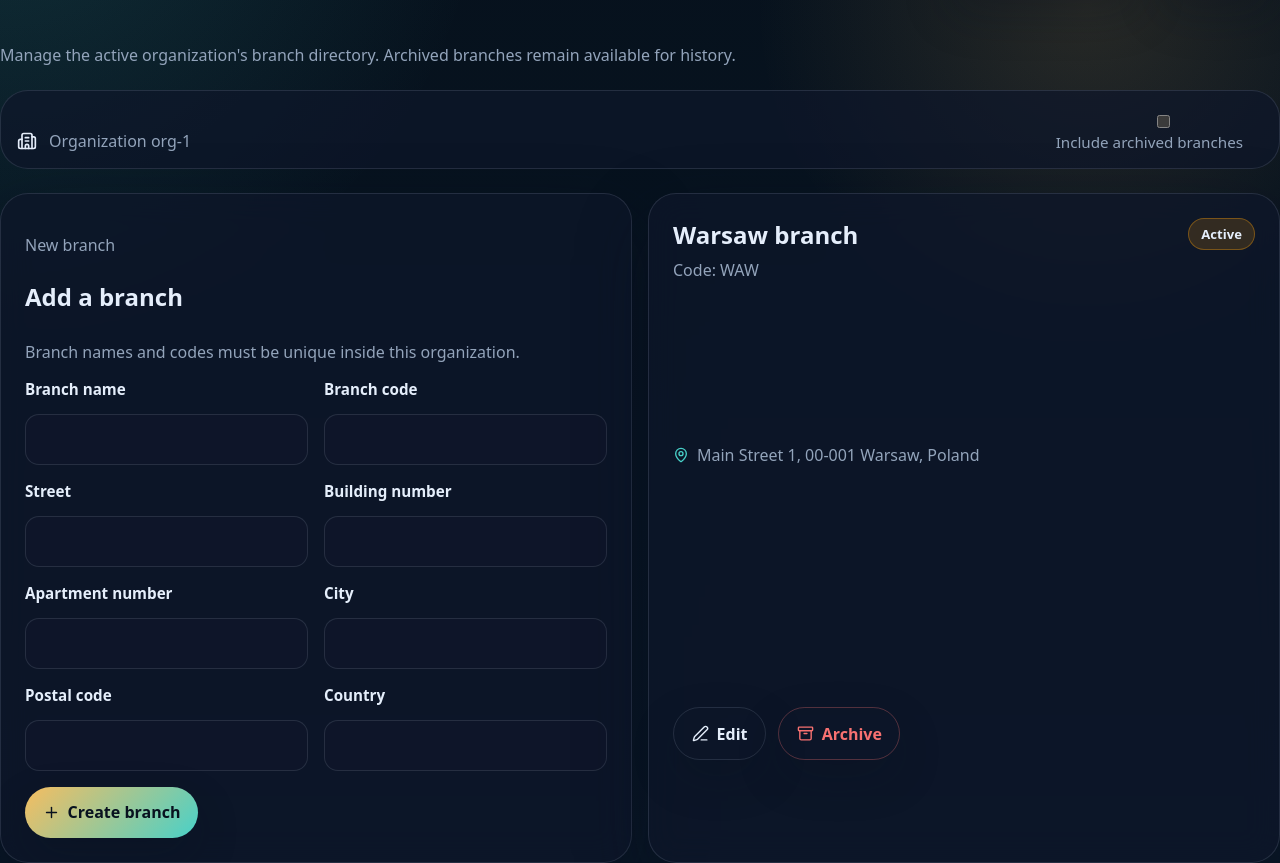
Test case: OrganizationBranches page › edits and archives an active branch
(page scrolled)
Expected: the heading "Warsaw branch" is shown, [673,218,858,251]
Click the button "Edit" at (720, 734), box [673,707,766,760]
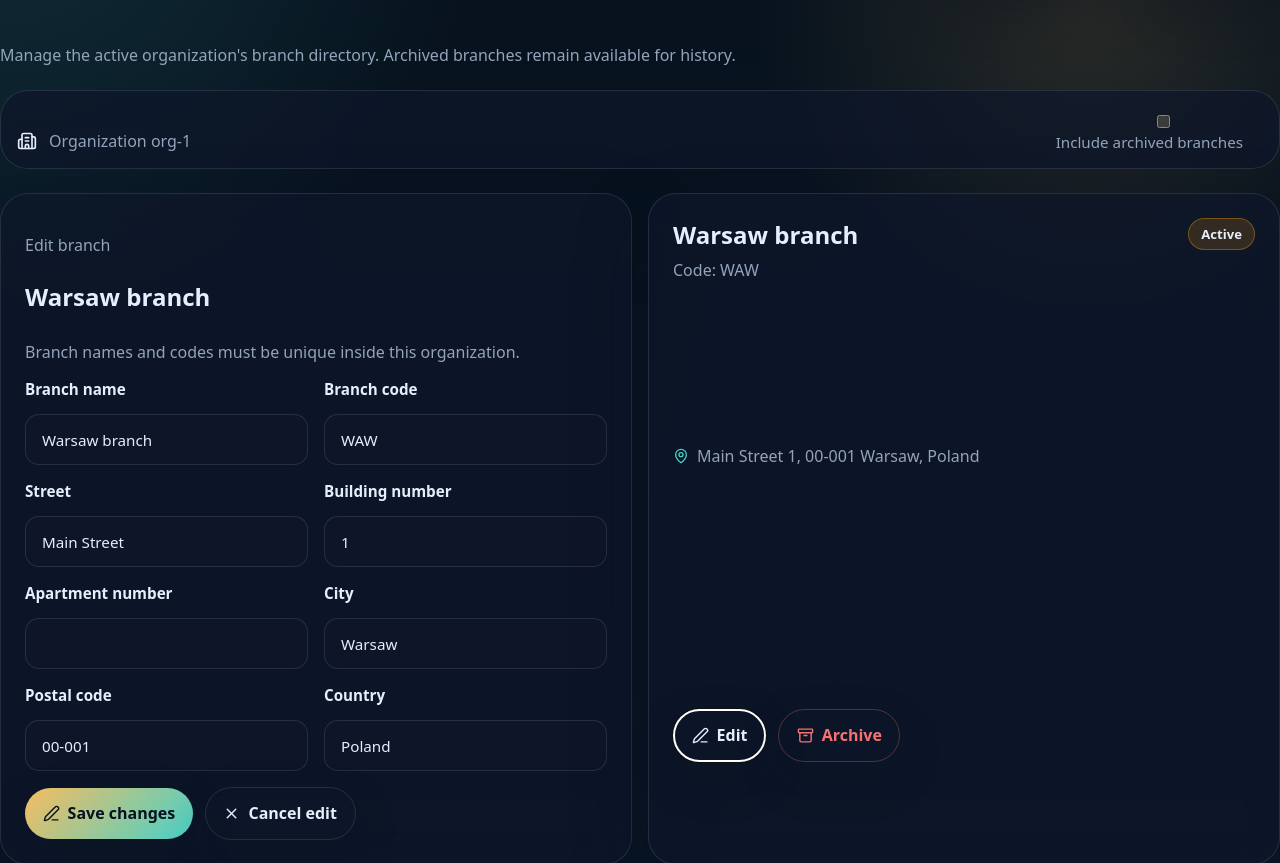
Clear the field labelled "Branch name" at (166, 440), box [25,414,308,465]
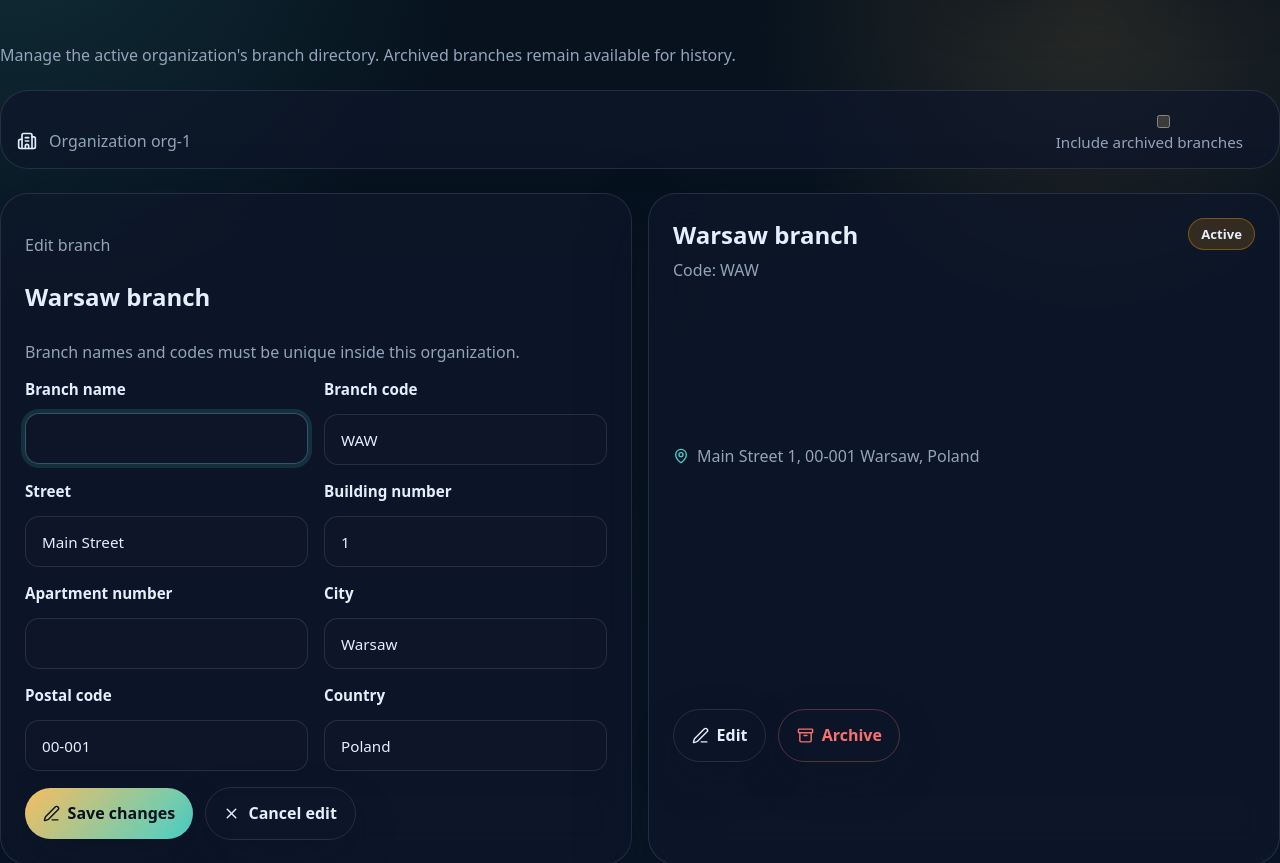
Type "Updated branch" into the field labelled "Branch name" at (166, 439), box [25,413,308,464]
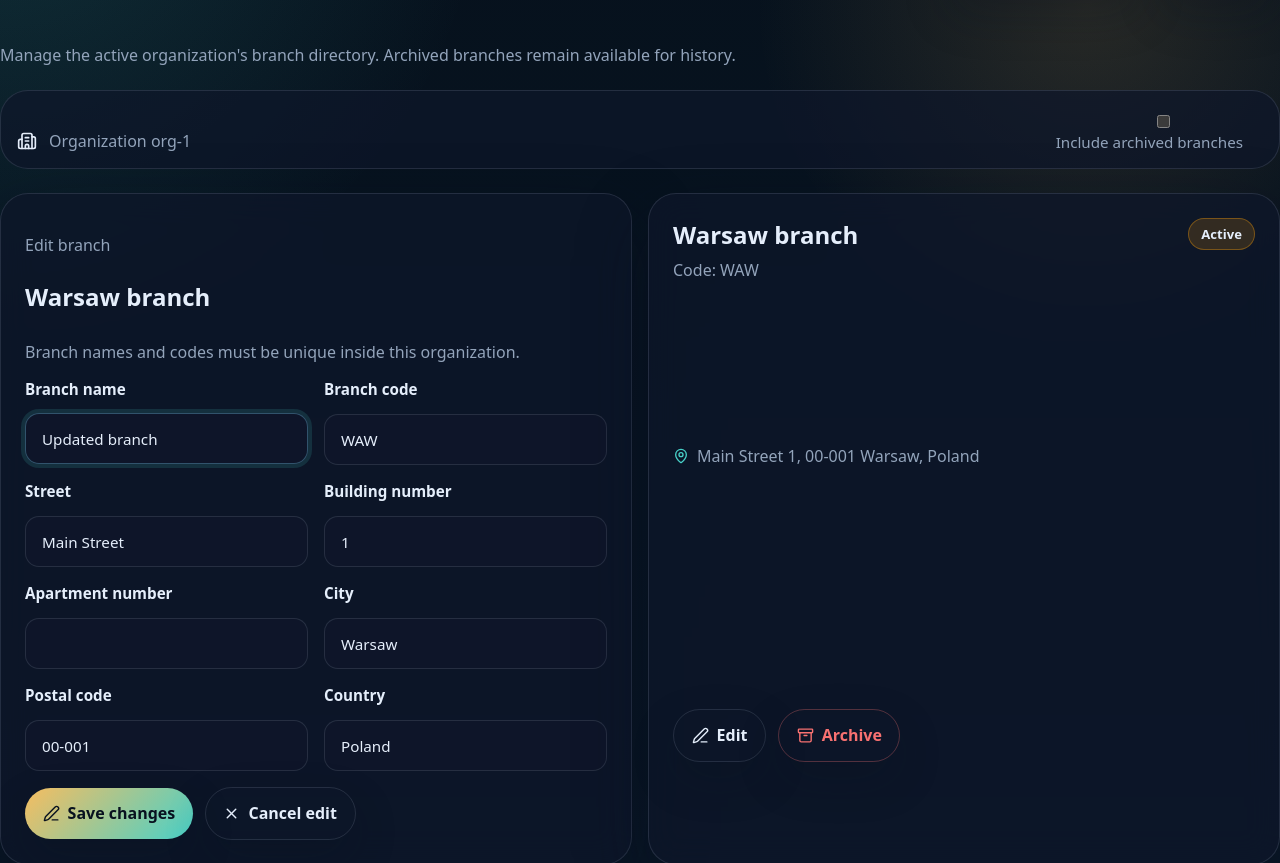
Click the button "Save changes" at (109, 813), box [25,788,193,839]
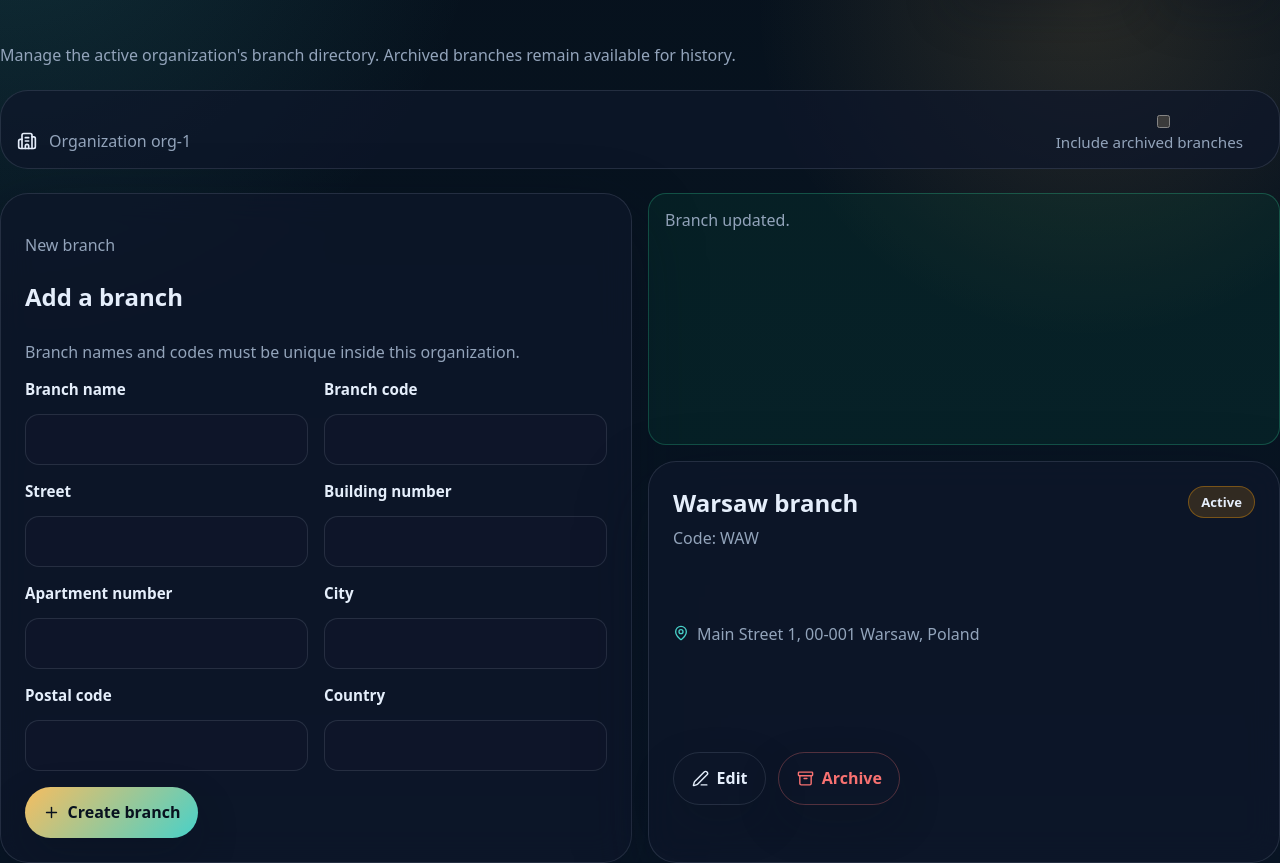
Click the button "Archive" at (839, 778), box [778,752,900,805]
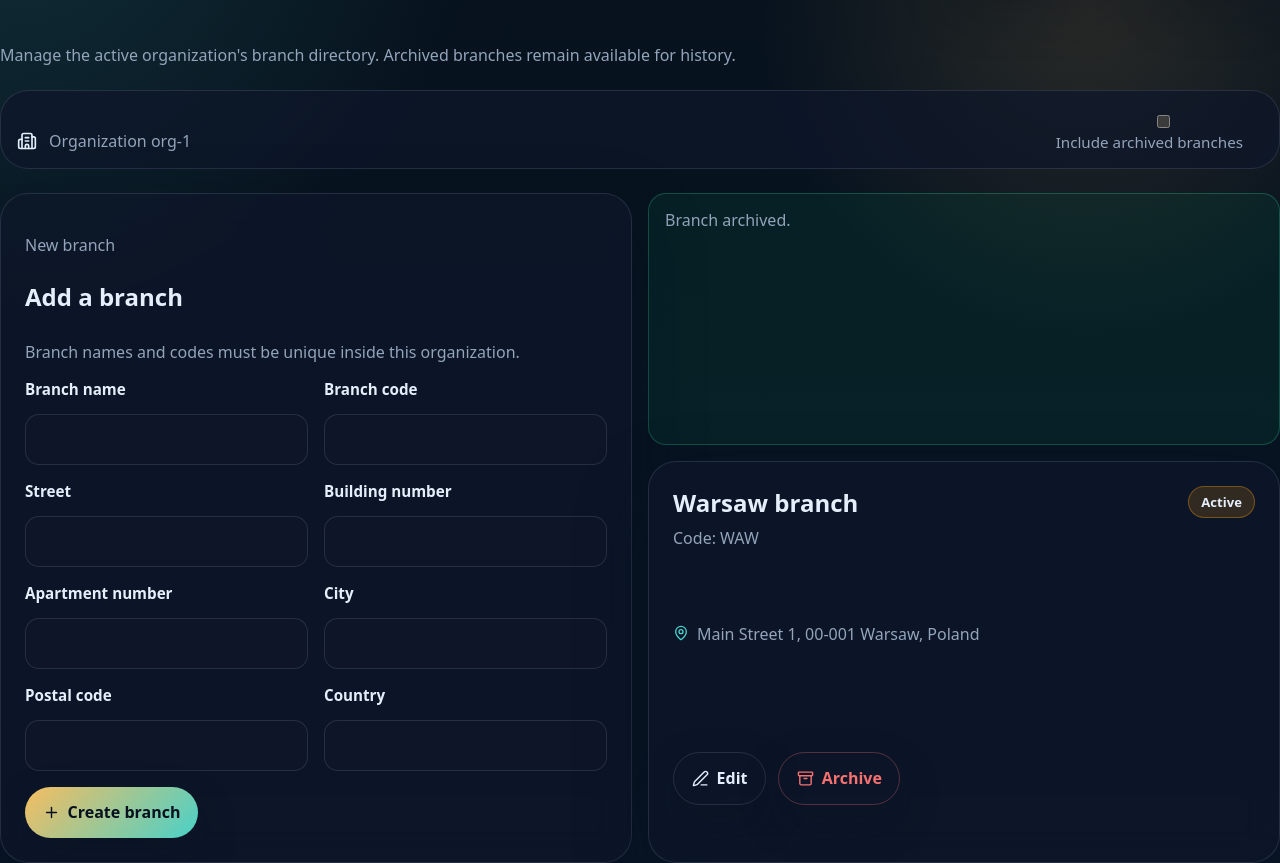
Expected: the text "Branch archived." is shown, [648,193,1279,444]
